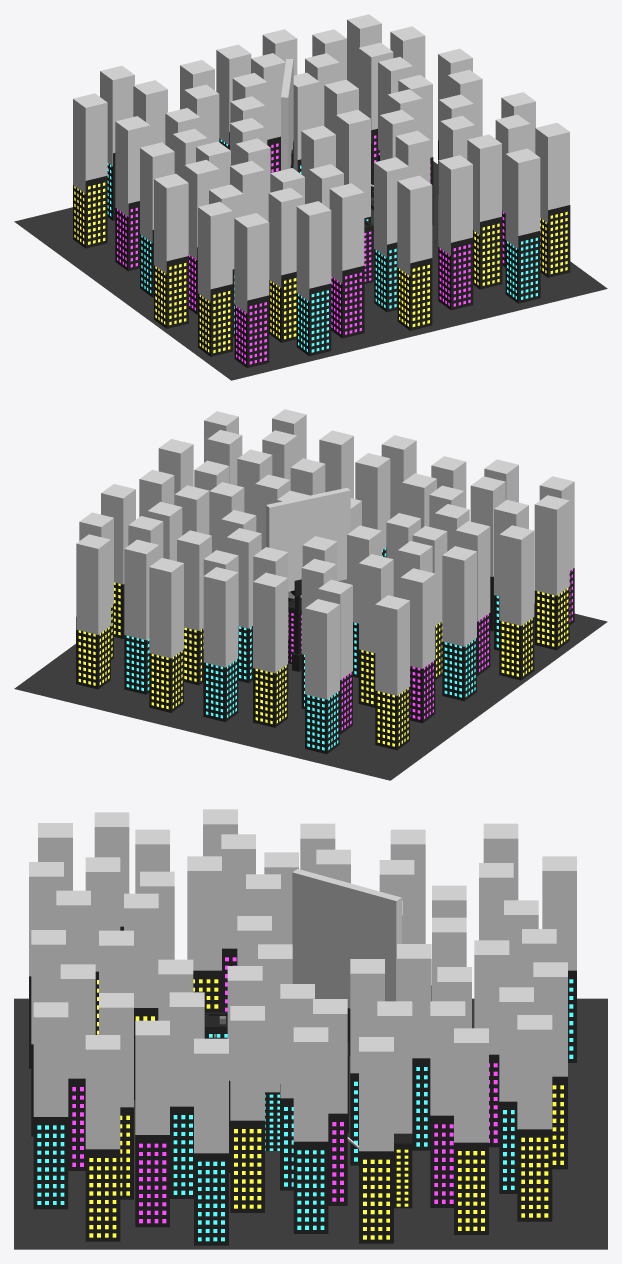
File: level 1.fbx
3 renders of one model, top to bottom at view 1: azimuth 30°, elevation 25°; view 2: azimuth 150°, elevation 25°; view 3: azimuth 270°, elevation 25°, orthographic. The views are drawn at different scales.
Visible parts, largest first — view 1: Plane, Cube.143, Cube.111, Cube.115, Cube.112, Cube.103, Cube.144, Cube.124, Cube.083, Cube.108, Cube.136, Cube.033 (+62 smaller); view 2: Plane, Cube.029, Cube.103, Cube.144, Cube.095, Cube.135, Cube.139, Cube.100, Cube.127, Cube.092, Cube.124, Cube.099 (+61 smaller); view 3: Plane, Cube.029, Cube.115, Cube.087, Cube.139, Cube.136, Cube.119, Cube.123, Cube.120, Cube.116, Cube.060, Cube.076 (+66 smaller).
Part boxes in pixels (<box>): Plane: <box>14,161,607,380</box>; Cube.143: <box>296,201,331,301</box>; Cube.111: <box>234,213,269,313</box>; Cube.115: <box>505,148,540,248</box>; Cube.112: <box>397,175,432,275</box>; Cube.103: <box>154,173,188,273</box>; Cube.144: <box>198,201,232,301</box>; Cube.124: <box>73,93,107,193</box>; Cube.083: <box>438,155,472,255</box>; Cube.108: <box>329,183,364,283</box>; Cube.136: <box>535,122,569,222</box>; Cube.033: <box>336,109,370,217</box>; Plane: <box>14,604,607,780</box>; Cube.029: <box>266,487,350,591</box>; Cube.103: <box>499,525,534,625</box>; Cube.144: <box>534,495,569,595</box>; Cube.095: <box>203,567,238,667</box>; Cube.135: <box>149,558,183,658</box>; Cube.139: <box>76,534,110,634</box>; Cube.100: <box>442,546,476,646</box>; Cube.127: <box>305,599,339,699</box>; Cube.092: <box>253,572,287,673</box>; Cube.124: <box>375,595,409,695</box>; Cube.099: <box>400,568,435,668</box>; Plane: <box>14,998,607,1249</box>; Cube.029: <box>292,869,401,1008</box>; Cube.115: <box>33,1002,68,1116</box>; Cube.087: <box>293,1027,328,1141</box>; Cube.139: <box>517,1015,552,1129</box>; Cube.136: <box>85,1035,120,1149</box>; Cube.119: <box>194,1038,228,1153</box>; Cube.123: <box>454,1028,488,1142</box>; Cube.120: <box>359,1037,393,1151</box>; Cube.116: <box>135,1020,169,1134</box>; Cube.060: <box>230,1006,264,1120</box>; Cube.076: <box>187,856,221,970</box>.
Size of the model in its own units: 18352 by 8102 by 18352.
